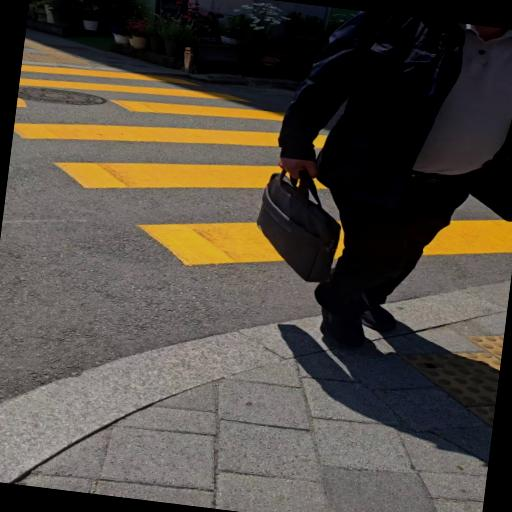yellow-crosswalk: (2, 48, 512, 285)
